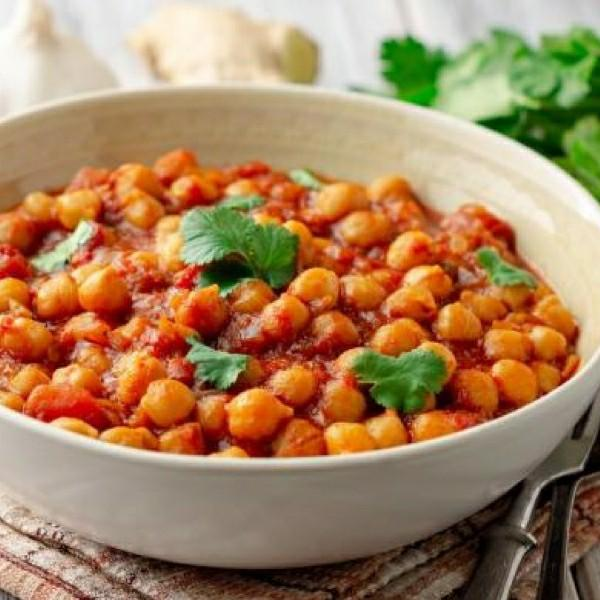Chole: (0, 149, 583, 456)
